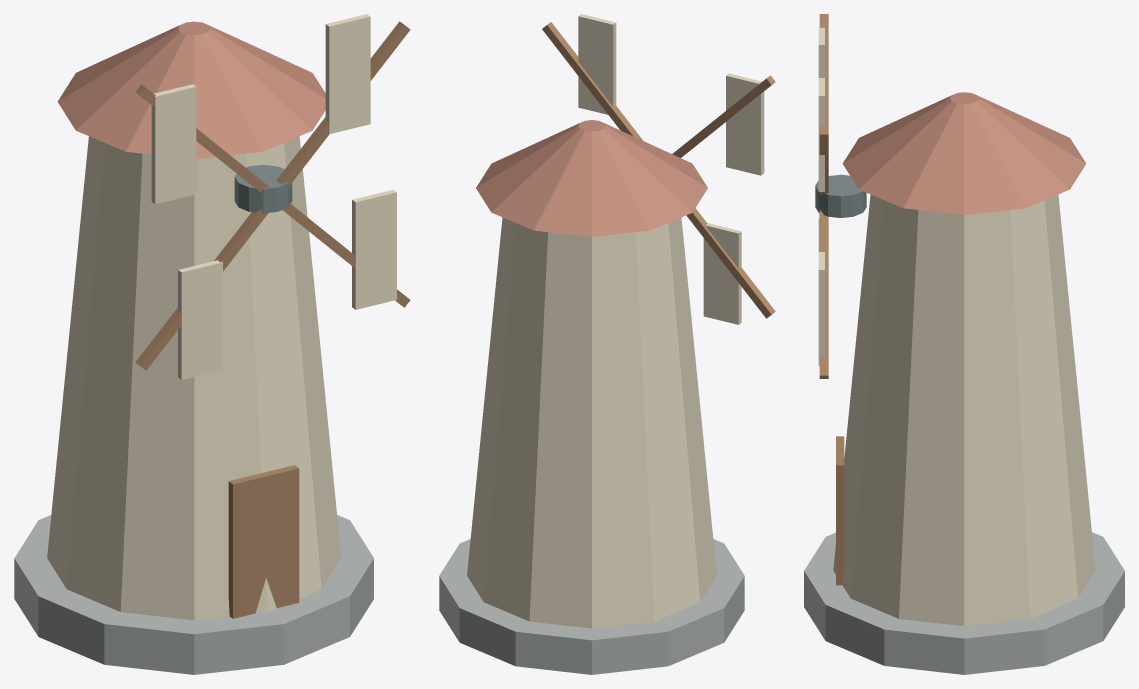
Rendered from windmill.glb.
3 renders of one model, left to right at view 1: azimuth 30°, elevation 25°; view 2: azimuth 150°, elevation 25°; view 3: azimuth 270°, elevation 25°, orthographic. The views are drawn at different scales.
Visible parts, largest first — view 1: Windmill tapered tower, Windmill stone footing, Windmill roof, Windmill entry, Windmill sail, Windmill sail.003, Windmill sail.001, Windmill sail.002, Sail hub, Windmill spar, Windmill spar.002, Windmill spar.003 (+1 smaller); view 2: Windmill tapered tower, Windmill roof, Windmill stone footing, Windmill sail.003, Windmill sail, Windmill sail.002, Windmill spar, Windmill spar.002, Windmill spar.003; view 3: Windmill tapered tower, Windmill roof, Windmill stone footing, Sail hub, Windmill entry, Windmill spar.001, Windmill sail.001, Windmill sail, Windmill spar.003.
Boxes of the visible parts, left/top/right/bottom form: Windmill tapered tower: left=47, top=136, right=341, bottom=620; Windmill stone footing: left=14, top=515, right=373, bottom=674; Windmill roof: left=57, top=21, right=325, bottom=159; Windmill entry: left=228, top=465, right=299, bottom=618; Windmill sail: left=325, top=14, right=370, bottom=134; Windmill sail.003: left=151, top=84, right=196, bottom=204; Windmill sail.001: left=352, top=189, right=396, bottom=309; Windmill sail.002: left=178, top=260, right=222, bottom=379; Sail hub: left=234, top=164, right=292, bottom=213; Windmill spar: left=276, top=21, right=410, bottom=186; Windmill spar.002: left=135, top=209, right=268, bottom=370; Windmill spar.003: left=135, top=84, right=269, bottom=192; Windmill tapered tower: left=467, top=217, right=716, bottom=628; Windmill roof: left=476, top=120, right=707, bottom=236; Windmill stone footing: left=439, top=539, right=744, bottom=674; Windmill sail.003: left=726, top=73, right=764, bottom=175; Windmill sail: left=578, top=14, right=616, bottom=114; Windmill sail.002: left=703, top=223, right=741, bottom=324; Windmill spar: left=542, top=22, right=643, bottom=140; Windmill spar.002: left=686, top=208, right=775, bottom=318; Windmill spar.003: left=672, top=75, right=775, bottom=157; Windmill tapered tower: left=833, top=194, right=1095, bottom=626; Windmill roof: left=842, top=92, right=1086, bottom=215; Windmill stone footing: left=804, top=532, right=1124, bottom=674; Sail hub: left=815, top=174, right=866, bottom=217; Windmill entry: left=836, top=436, right=844, bottom=585; Windmill spar.001: left=819, top=209, right=828, bottom=378; Windmill sail.001: left=818, top=252, right=824, bottom=365; Windmill sail: left=818, top=78, right=824, bottom=191; Windmill spar.003: left=819, top=14, right=828, bottom=126.
Bounding box in the file's own units: 4 × 7.6 × 4.
